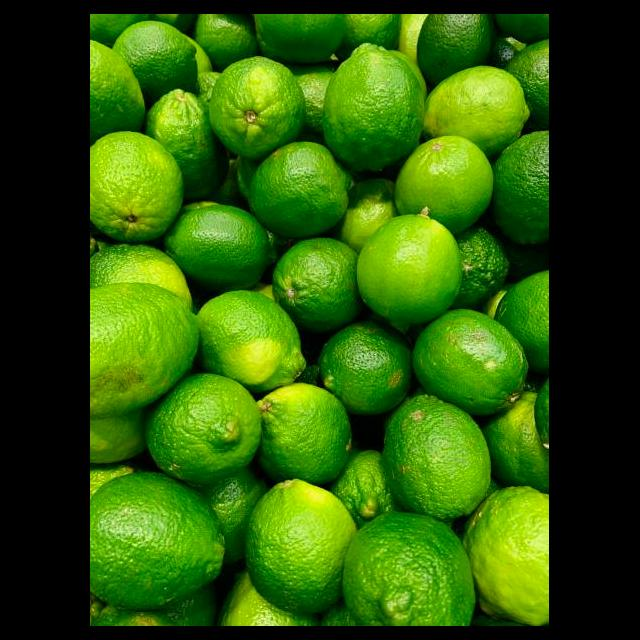lime: (342, 512, 478, 626), (90, 286, 204, 417), (320, 44, 428, 178), (357, 206, 466, 331)
